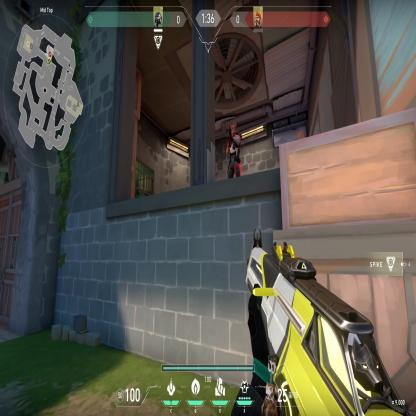enemy: (226, 120, 242, 182)
